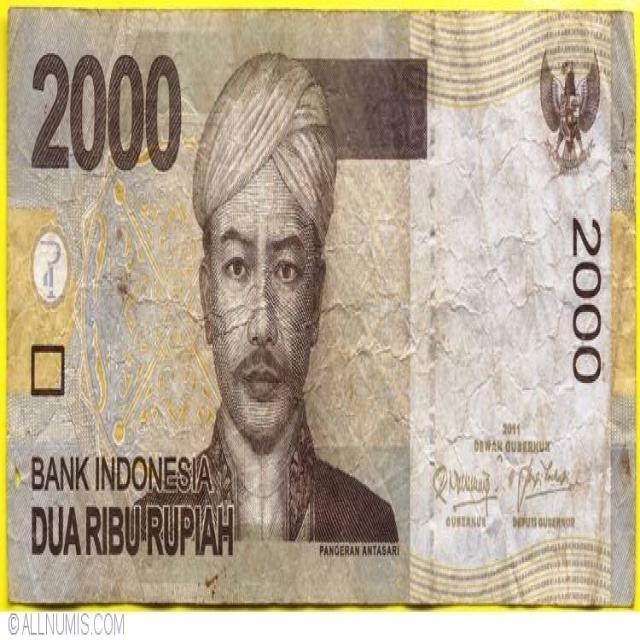dua ribu rupiah: (8, 10, 632, 609)
